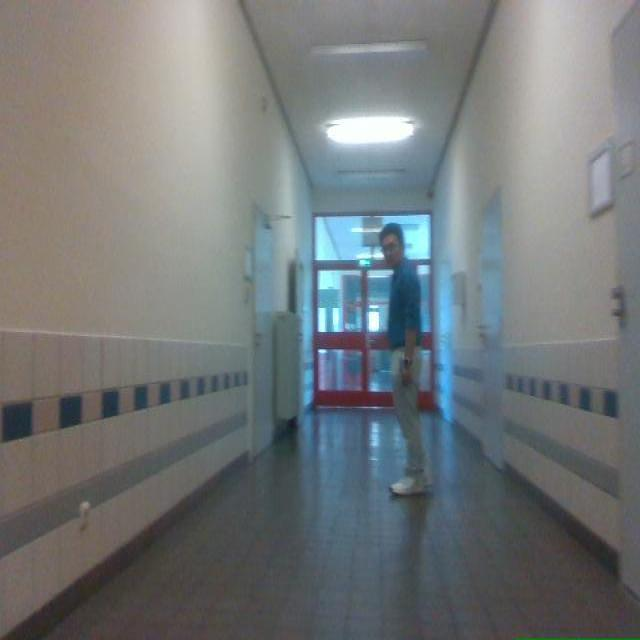humans: (379, 223, 430, 495)
